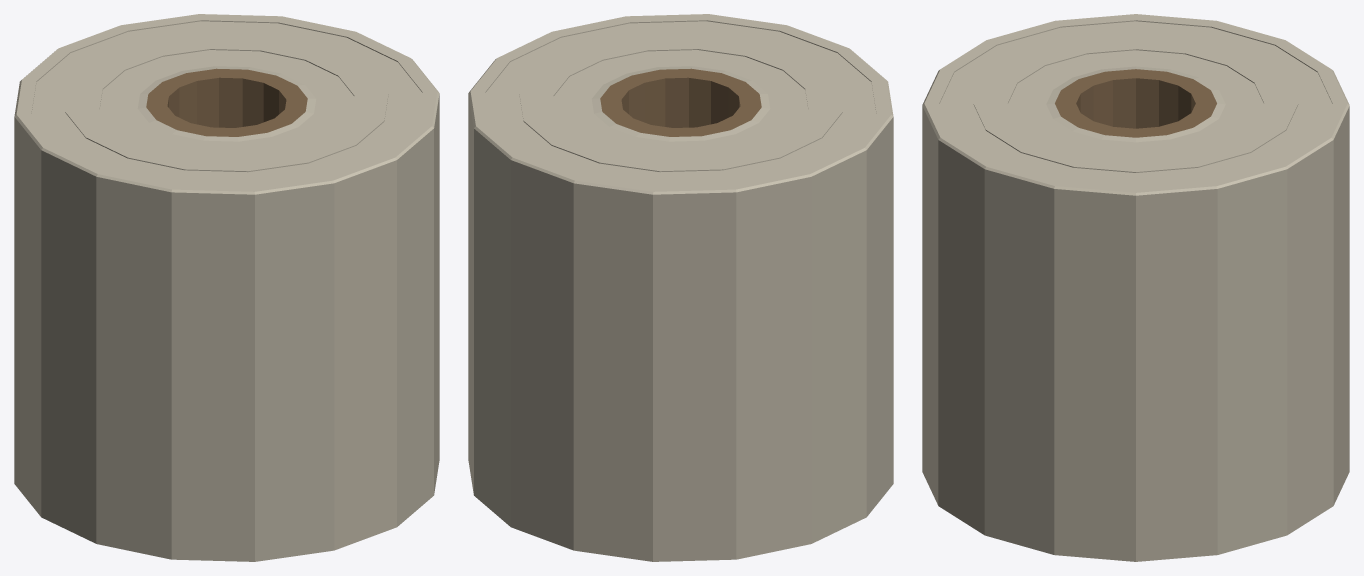
Rendered from ToiletPaperRoll.fbx.
3 renders of one model, left to right at view 1: azimuth 30°, elevation 25°; view 2: azimuth 150°, elevation 25°; view 3: azimuth 270°, elevation 25°, orthographic.
Parts seen in each view (by area): view 1: ToiletPaper, ToiletPaperCore; view 2: ToiletPaper, ToiletPaperCore; view 3: ToiletPaper, ToiletPaperCore.
Boxes of the visible parts, bbox=[...] form: ToiletPaper: bbox=[14, 14, 439, 561]; ToiletPaperCore: bbox=[146, 68, 307, 136]; ToiletPaper: bbox=[468, 14, 893, 561]; ToiletPaperCore: bbox=[600, 68, 761, 136]; ToiletPaper: bbox=[922, 14, 1349, 561]; ToiletPaperCore: bbox=[1055, 69, 1216, 137].
Bounding box in the file's own units: 0.1 × 0.095 × 0.1.
